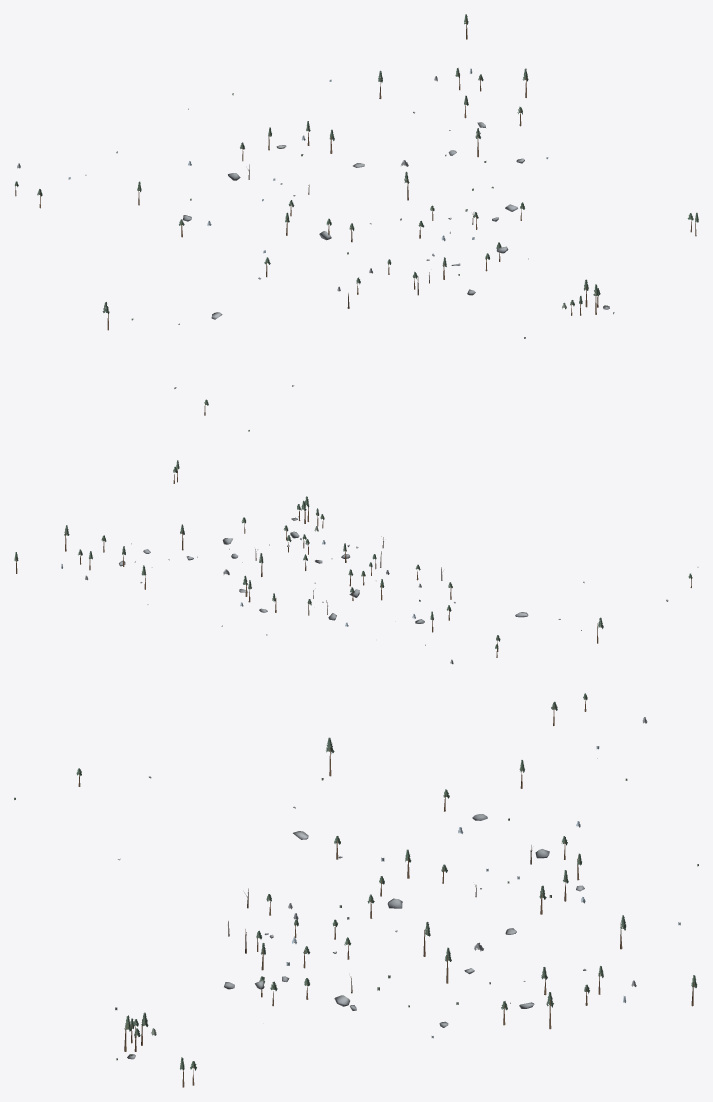
Rendered from frost_land_scatter_c18_09_lod1.glb.
3 views of the same model, one above another, from view 1: azimuth 30°, elevation 25°; view 2: azimuth 150°, elevation 25°; view 3: azimuth 270°, elevation 25° (orthographic). The views are drawn at different scales.
Visible parts, largest first — view 1: frost_land_scatter_c18_09_lod1; view 2: frost_land_scatter_c18_09_lod1; view 3: frost_land_scatter_c18_09_lod1.
Part boxes in pixels (box(x1,y1,x2,y2)): frost_land_scatter_c18_09_lod1: box(15, 14, 698, 431); frost_land_scatter_c18_09_lod1: box(14, 460, 698, 664); frost_land_scatter_c18_09_lod1: box(14, 693, 698, 1087).
Bounding box in the file's own units: 248 × 49.8 × 220.
